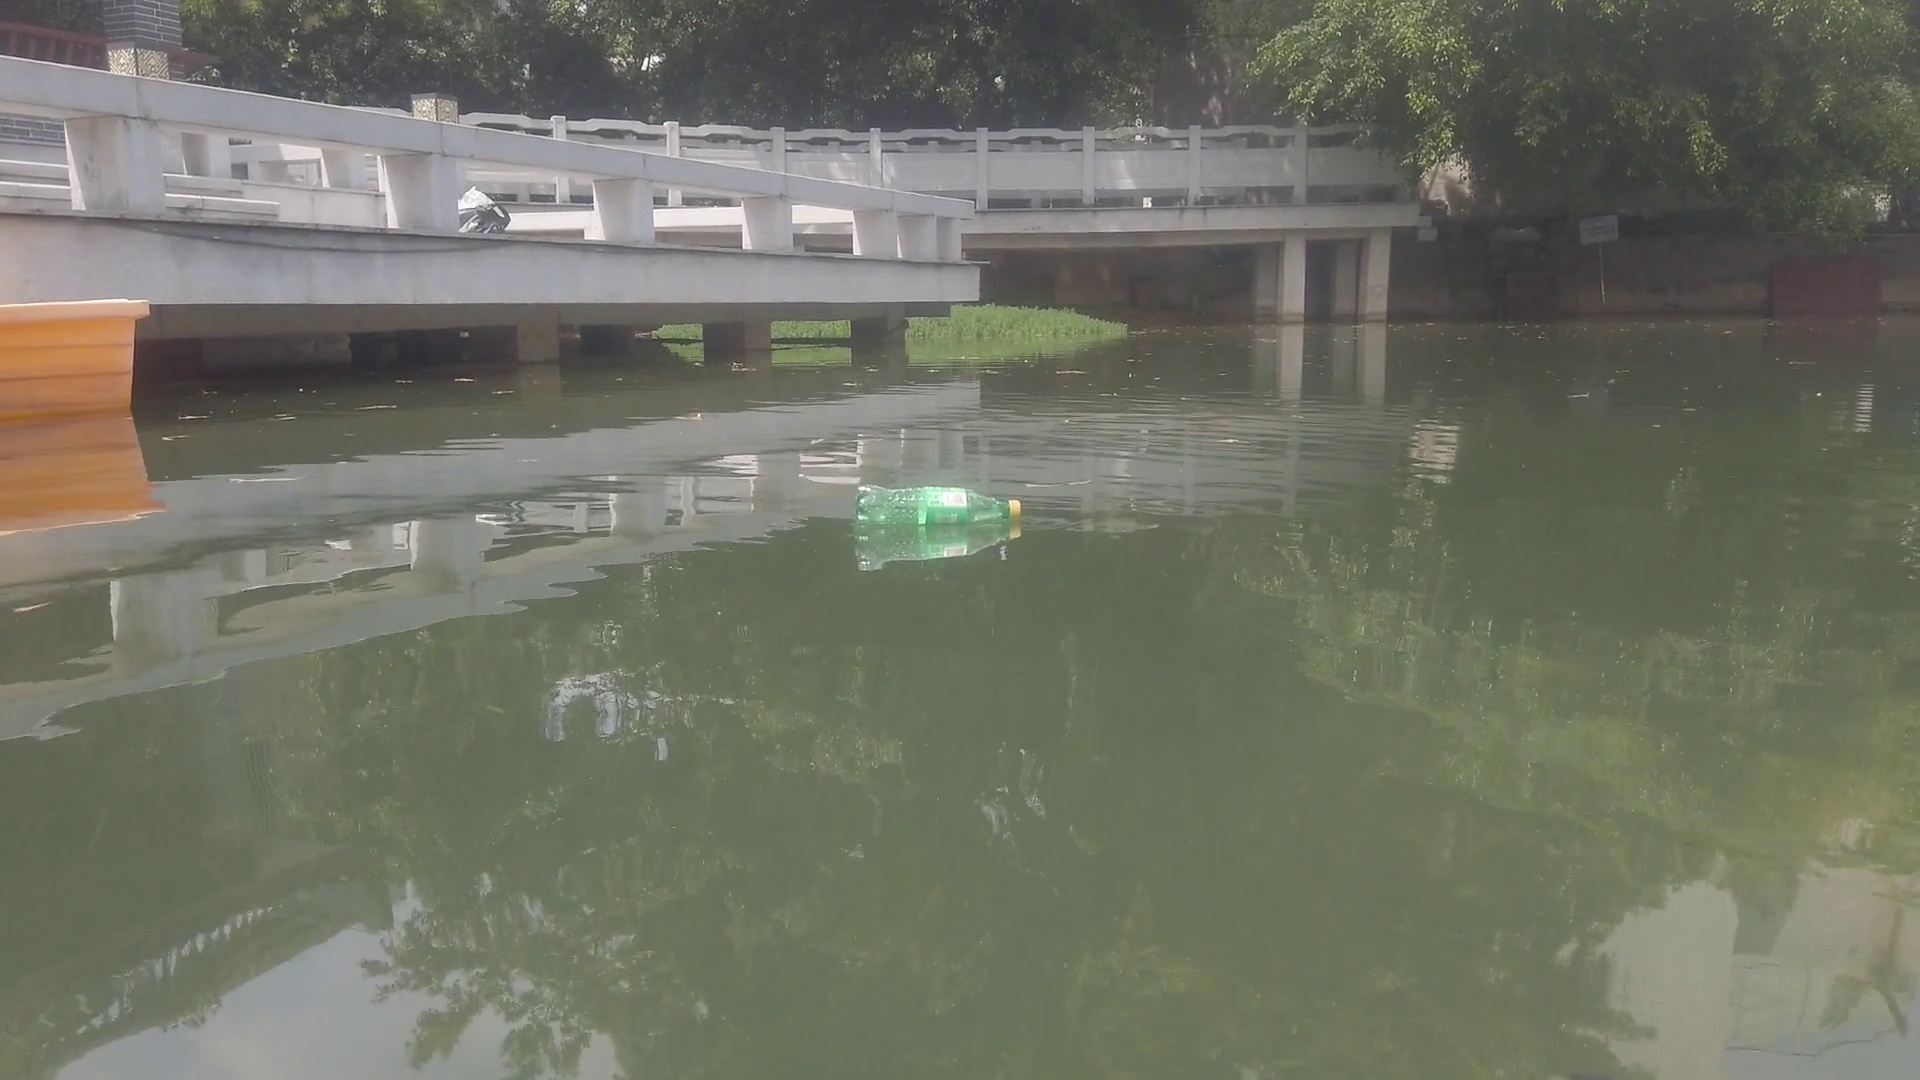bottle: (851, 483, 1023, 527)
